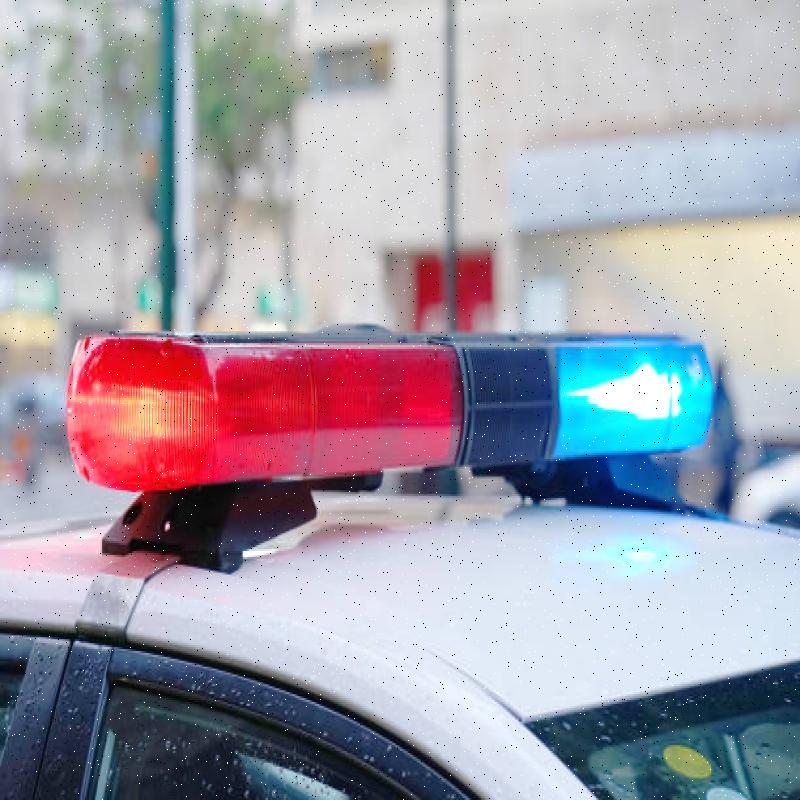AmbulanceSiren: (56, 282, 738, 552)
